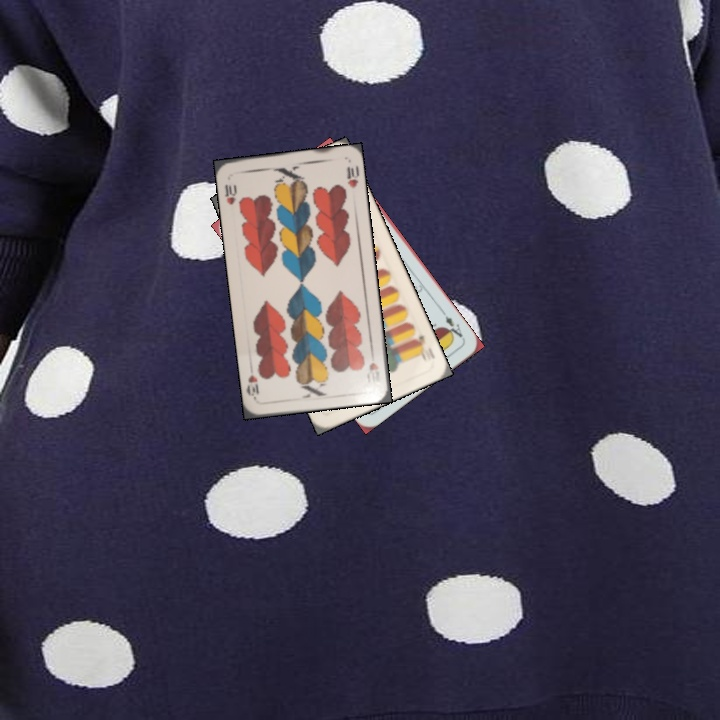E10: (411, 331, 437, 364)
EA: (438, 307, 467, 342)
H10: (364, 347, 384, 387), (221, 180, 239, 207)
